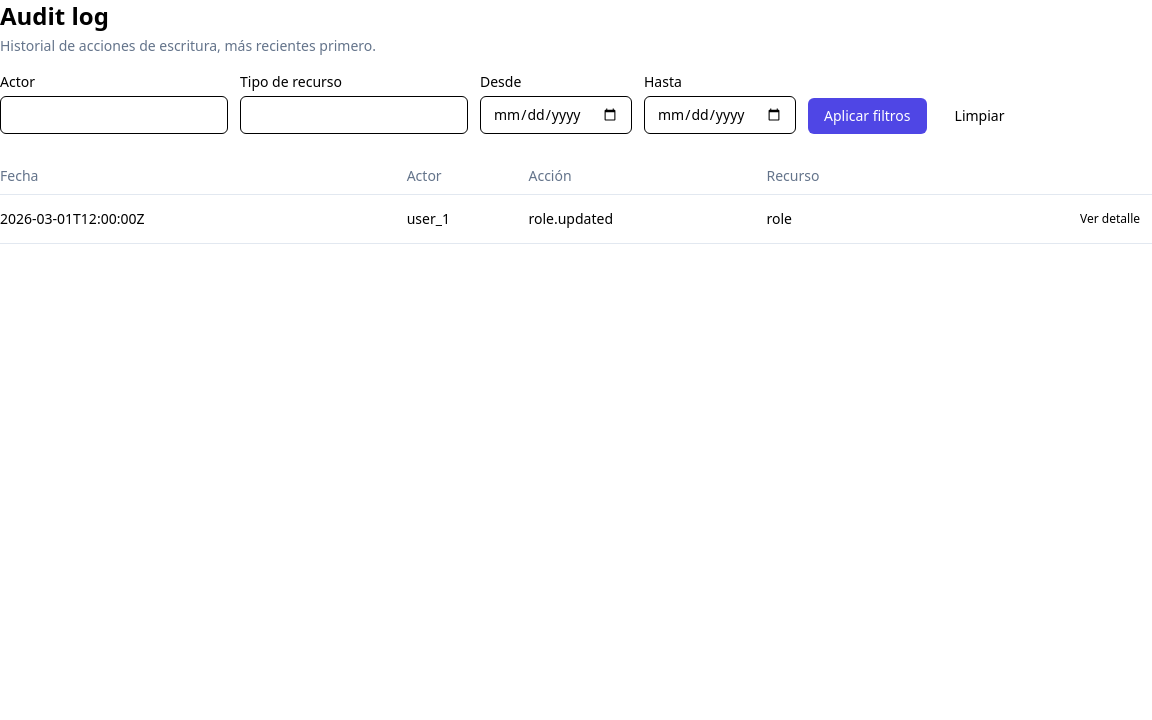
Test: AuditView › shows the diff for an entry in a detail dialog
Expected: the text "role.updated" is shown, [528,194,766,244]
Click the button "Ver detalle" at (1110,219), box [1068,203,1151,235]
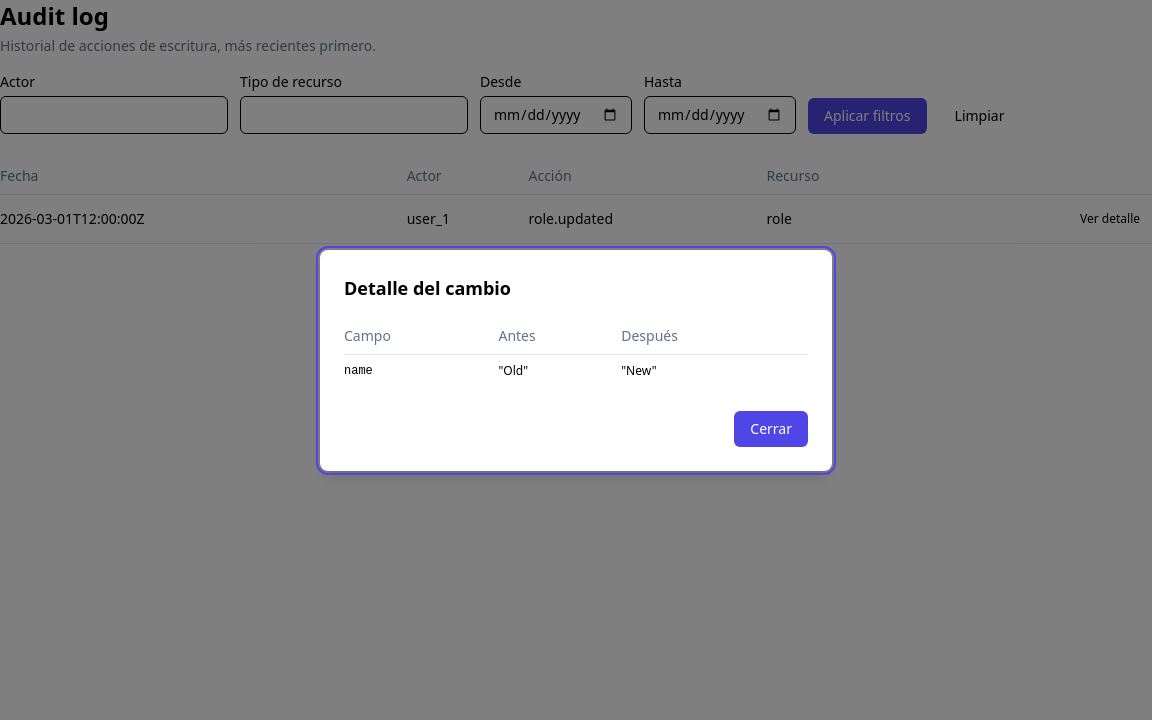
Expected: the text "name" is shown, [344,354,498,386]
Expected: the text "\"Old\"" is shown, [498,354,621,386]
Expected: the text "\"New\"" is shown, [621,354,808,386]
Click the button "Cerrar" at (771,428), box [734,410,808,446]
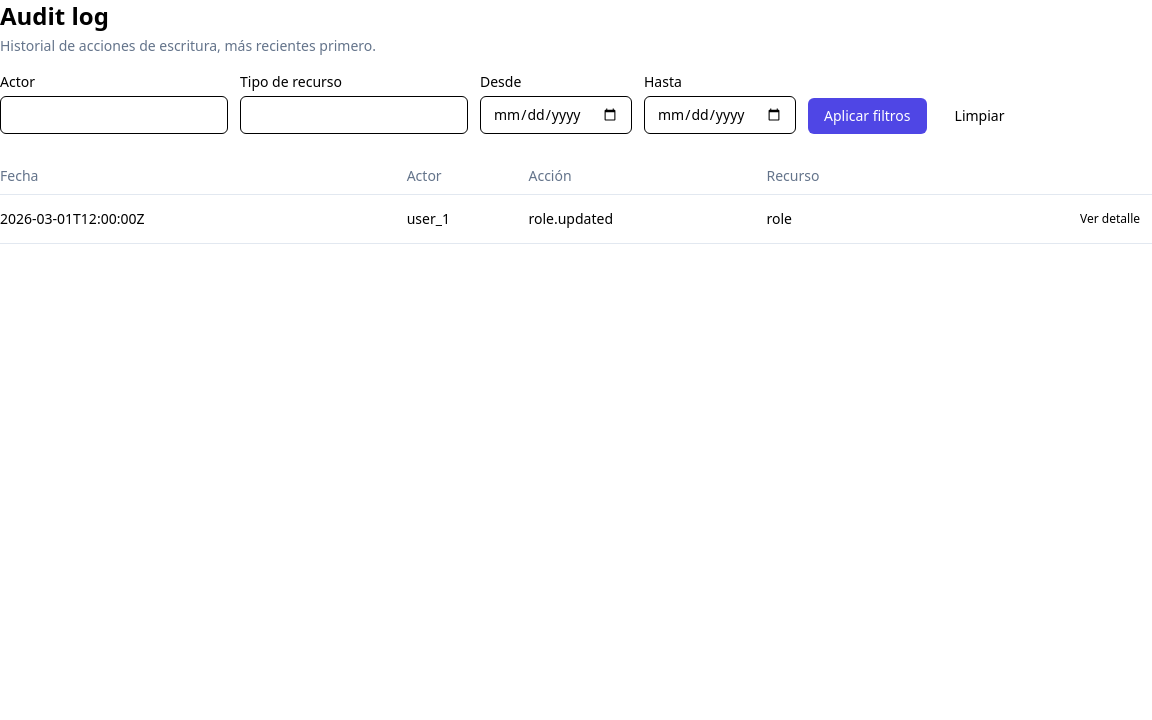
Expected: the dialog is gone
